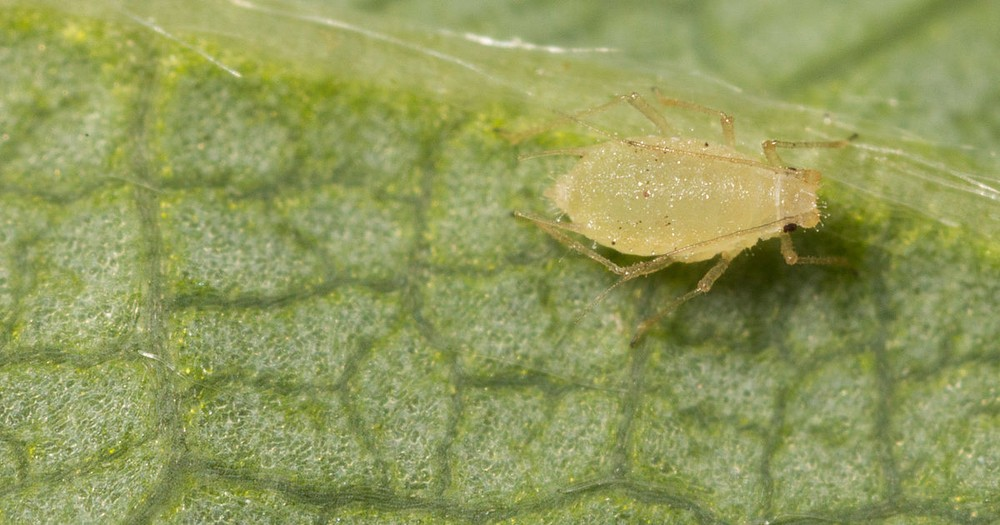Pulgon: (499, 77, 895, 319)
